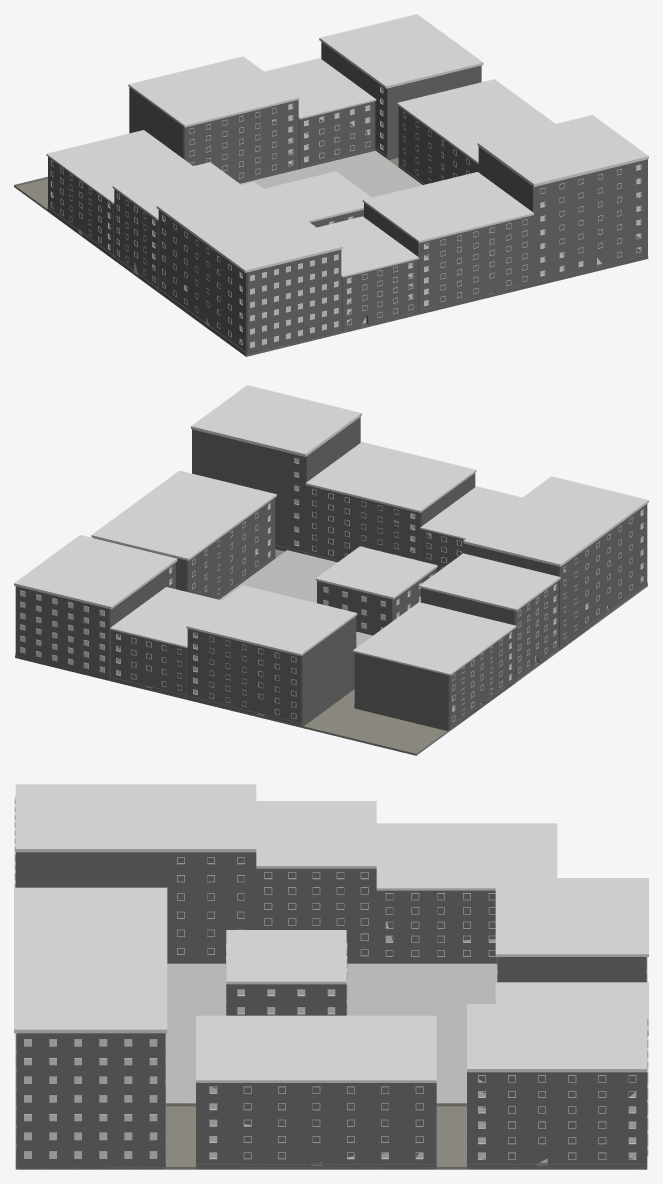
The model's file is Block02.fbx.
3 views of the same model, one above another, from view 1: azimuth 30°, elevation 25°; view 2: azimuth 150°, elevation 25°; view 3: azimuth 270°, elevation 25° (orthographic). The views are drawn at different scales.
Parts seen in each view (by area): view 1: BC40_F06.001, BC30_F07.002, BR30_F06.001, BR30_F06, BC30_F06.001, BD40_F04, BR30_F05, BR20_F05.003, BR20_F04.002, BR20_F06.005, BD20_F03, Courtyard.001 (+1 smaller); view 2: BR30_F06, BC40_F06.001, BR30_F05, BC30_F07.002, BC30_F06.001, BD40_F04, BR30_F06.001, BR20_F06.005, BR20_F04.002, BD20_F03, BuildingArea.001, BR20_F05.003 (+1 smaller); view 3: BD40_F04, BC30_F07.002, BC40_F06.001, BC30_F06.001, BR30_F05, BR20_F06.005, BR30_F06, Courtyard.001, BD20_F03, BR30_F06.001, BuildingArea.001, BR20_F05.003 (+1 smaller).
Part boxes in pixels (x1,y1,x2,y2): BC40_F06.001: (156,182,342,356); BC30_F07.002: (477,115,648,286); BR30_F06.001: (362,172,533,314); BR30_F06: (128,56,299,183); BC30_F06.001: (319,14,483,159); BD40_F04: (397,79,555,184); BR30_F05: (46,130,192,259); BR20_F05.003: (317,216,418,333); BR20_F04.002: (264,58,376,169); BR20_F06.005: (112,162,241,291); BD20_F03: (264,171,371,227); Courtyard.001: (240,150,422,197); BR30_F06: (186,585,357,726); BC40_F06.001: (463,476,648,650); BR30_F05: (353,602,516,730); BC30_F07.002: (191,385,361,554); BC30_F06.001: (14,535,177,680); BD40_F04: (91,470,276,599); BR30_F06.001: (305,442,476,562); BR20_F06.005: (419,553,560,680); BR20_F04.002: (110,587,221,699); BD20_F03: (315,546,437,635); BuildingArea.001: (15,549,647,755); BR20_F05.003: (420,486,522,572); BD40_F04: (196,1015,436,1169); BC30_F07.002: (14,953,167,1169); BC40_F06.001: (14,784,256,963); BC30_F06.001: (467,1004,648,1169); BR30_F05: (376,823,557,965); BR20_F06.005: (256,801,376,963); BR30_F06: (495,878,648,982); Courtyard.001: (166,963,496,1103); BD20_F03: (226,930,347,1015); BR30_F06.001: (14,916,167,1087); BuildingArea.001: (15,957,647,1169); BR20_F05.003: (14,887,167,916).
Size of the model in its own units: 10550 by 2595 by 10550.
